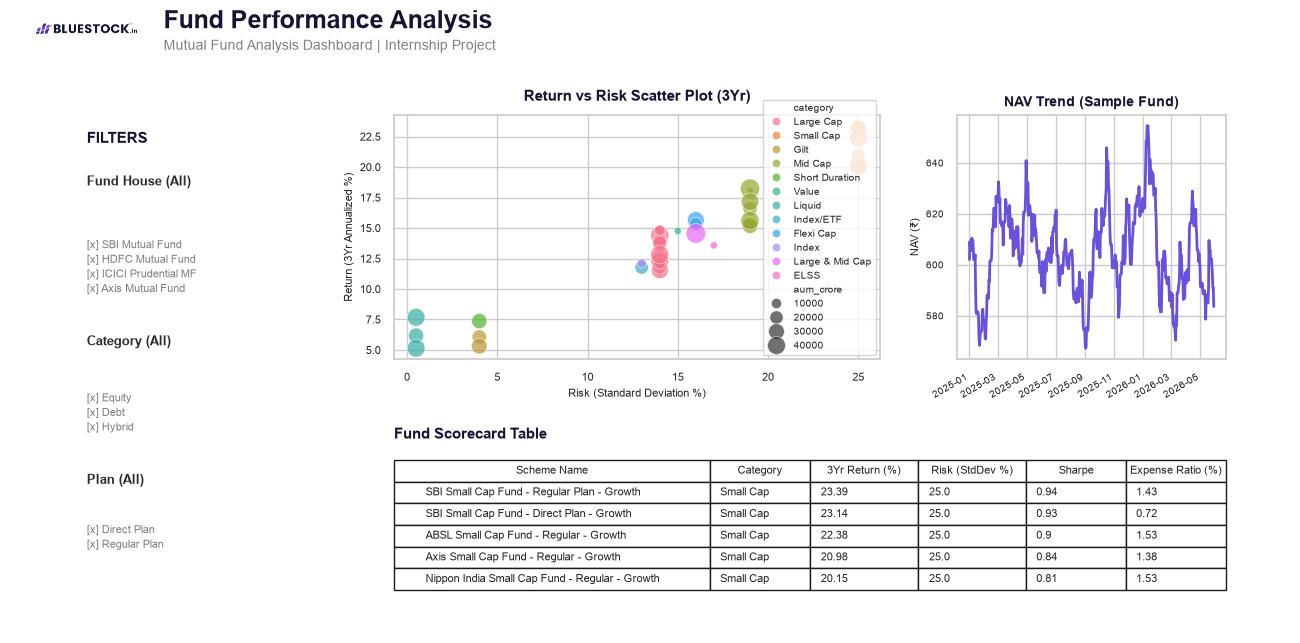

What the dashboard file says about the page in this screenshot:
{"tool":"powerbi","page":{"name":"Fund Performance","canvas":[1280,720],"ordinal":1},"visuals":[{"type":"slicer","fields":{"Values":["dim_fund.fund_house"]},"box":[50,50,250,150]},{"type":"scatterChart","fields":{"Category":["fact_performance.scheme_name"],"Y":["fact_performance.Return"]},"box":[320,50,450,300]},{"type":"lineChart","fields":{"Category":["fact_nav.date"],"Y":["fact_nav.NAV"]},"box":[790,50,440,300]},{"type":"slicer","fields":{"Values":["dim_fund.category"]},"box":[50,220,250,150]},{"type":"tableEx","fields":{"Values":["fact_performance.scheme_name","fact_performance.return_3yr_pct","fact_performance.std_dev_ann_pct","fact_performance.sharpe_ratio","fact_performance.expense_ratio_pct"]},"box":[320,370,910,300]},{"type":"slicer","fields":{"Values":["dim_fund.plan"]},"box":[50,390,250,150]}]}

Visuals, with their boxes on the page's 1280x720 design canvas (x1, y1, x2, y2). These are canvas units, not pixel positions in the 1300x643 screenshot, which may show the page scaled, cropped or inside an application window:
slicer - dim_fund.fund_house: (50, 50, 300, 200)
scatterChart - fact_performance.scheme_name x fact_performance.Return: (320, 50, 770, 350)
lineChart - fact_nav.date x fact_nav.NAV: (790, 50, 1230, 350)
slicer - dim_fund.category: (50, 220, 300, 370)
tableEx - fact_performance.scheme_name x fact_performance.return_3yr_pct: (320, 370, 1230, 670)
slicer - dim_fund.plan: (50, 390, 300, 540)
